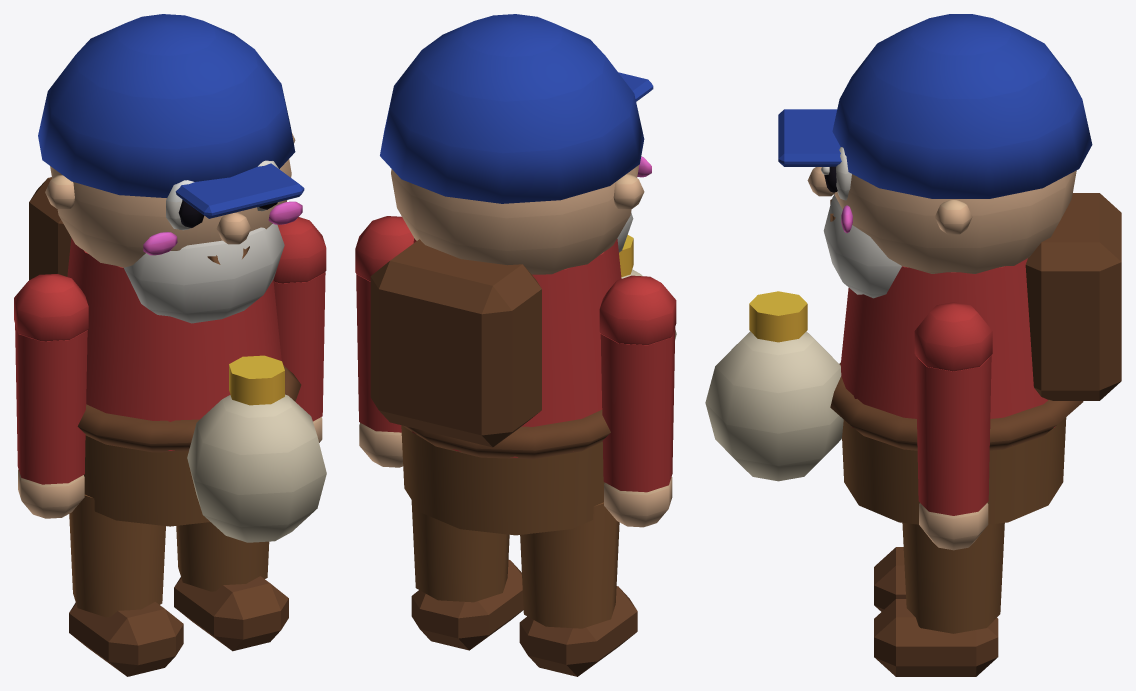
The model's file is villager_porter.glb.
3 renders of one model, left to right at view 1: azimuth 30°, elevation 25°; view 2: azimuth 150°, elevation 25°; view 3: azimuth 270°, elevation 25°, orthographic. The views are drawn at different scales.
Parts seen in each view (by area): view 1: body_t0_palette, carry_t0_palette, arml_t0_palette, legl_t0_palette, legr_t0_palette, armr_t0_palette; view 2: body_t0_palette, arml_t0_palette, legl_t0_palette, legr_t0_palette, armr_t0_palette, carry_t0_palette; view 3: body_t0_palette, carry_t0_palette, armr_t0_palette, legr_t0_palette, legl_t0_palette.
Part boxes in pixels (bbox=[...]): body_t0_palette: bbox=[29, 14, 304, 526]; carry_t0_palette: bbox=[187, 355, 326, 542]; arml_t0_palette: bbox=[14, 274, 88, 518]; legl_t0_palette: bbox=[69, 494, 183, 676]; legr_t0_palette: bbox=[174, 522, 288, 651]; armr_t0_palette: bbox=[273, 217, 326, 442]; body_t0_palette: bbox=[370, 14, 653, 535]; arml_t0_palette: bbox=[599, 275, 676, 527]; legl_t0_palette: bbox=[519, 502, 637, 676]; legr_t0_palette: bbox=[411, 500, 523, 650]; armr_t0_palette: bbox=[355, 216, 413, 467]; carry_t0_palette: bbox=[619, 235, 676, 339]; body_t0_palette: bbox=[778, 14, 1121, 524]; carry_t0_palette: bbox=[705, 291, 843, 481]; armr_t0_palette: bbox=[914, 302, 992, 550]; legr_t0_palette: bbox=[874, 523, 1004, 676]; legl_t0_palette: bbox=[874, 547, 905, 611].
Bounding box in the file's own units: 0.2433 × 0.4655 × 0.285.
